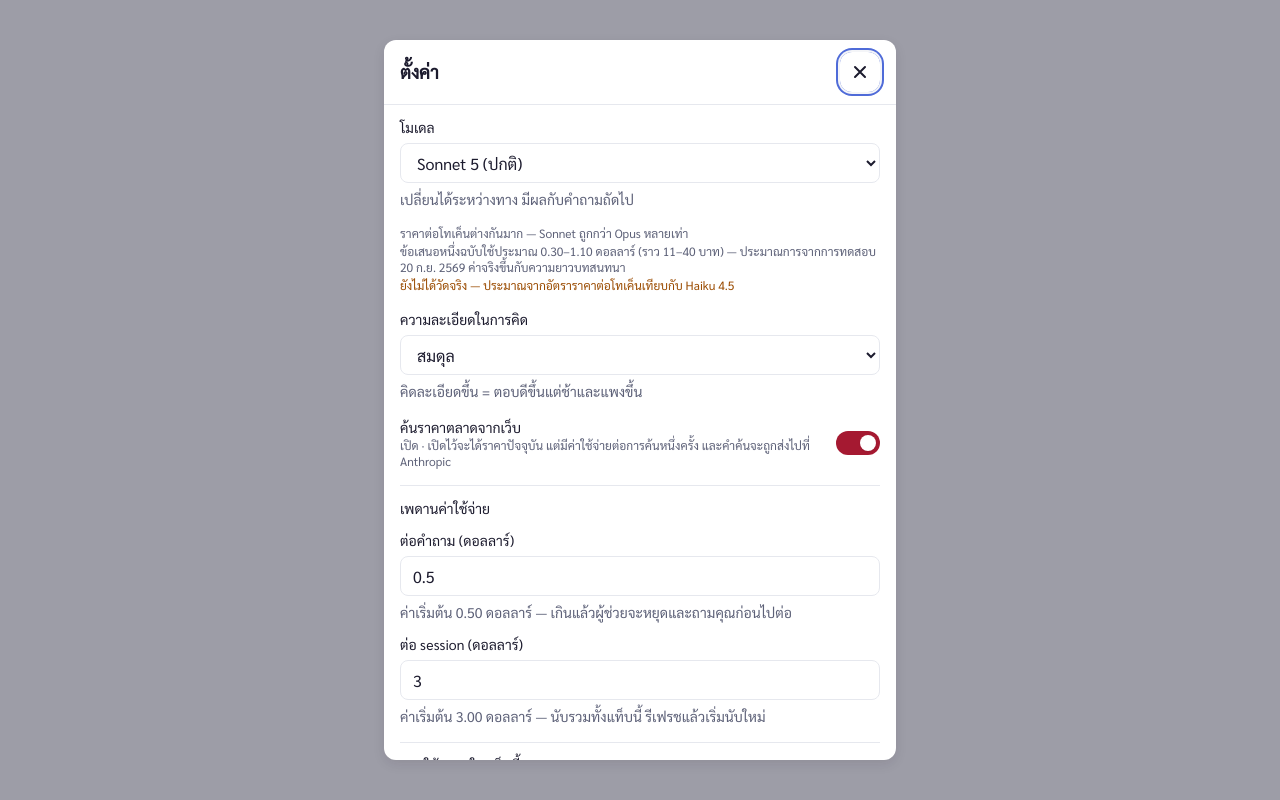
Test: SettingsDialog (06 §4.6) › เปิด/ปิด web search อัปเดต sessionStore และแสดงข้อความเตือนเมื่อปิด
Step 1. Click the switch named "ค้นราคาตลาดจากเว็บ" → (858, 443), box [836,431,880,455]
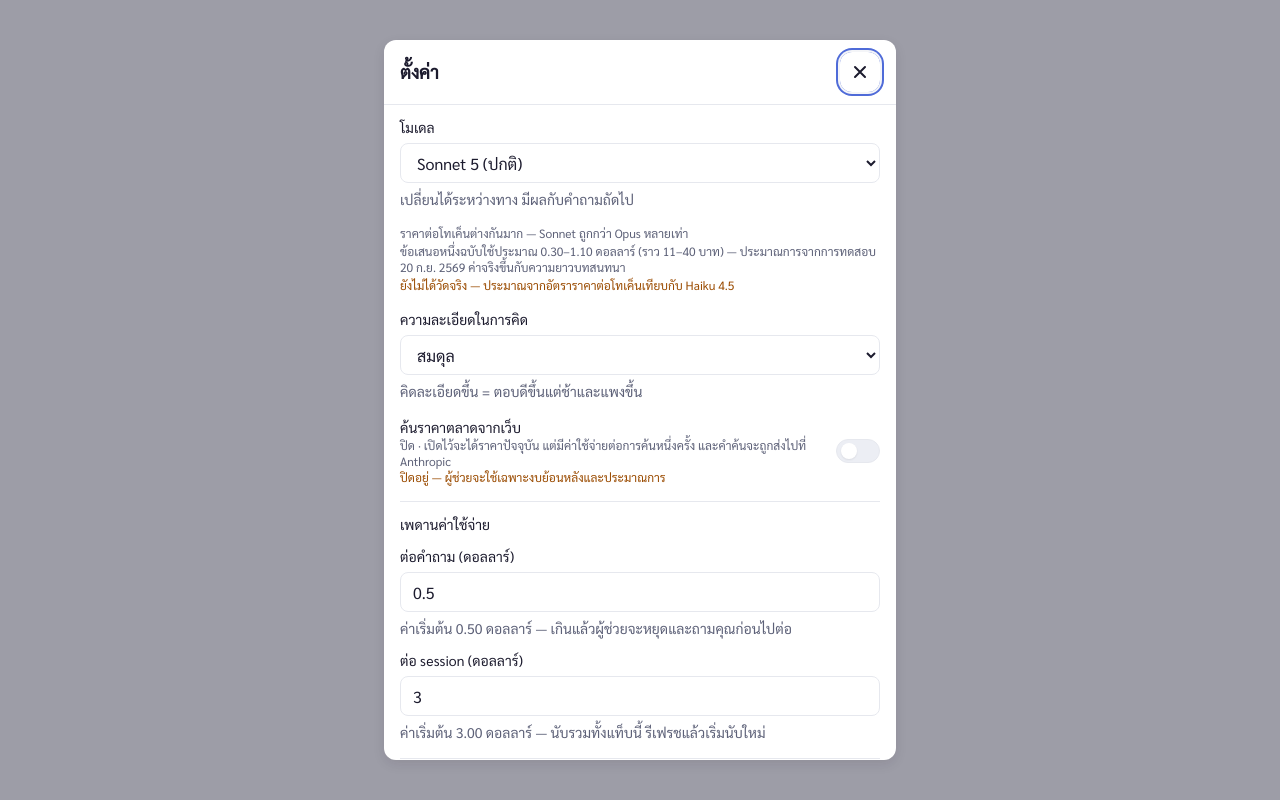
Check: the text "ปิดอยู่ — ผู้ช่วยจะใช้เฉพาะงบย้อนหลังและประมาณการ" is shown, box [400,469,666,485]
